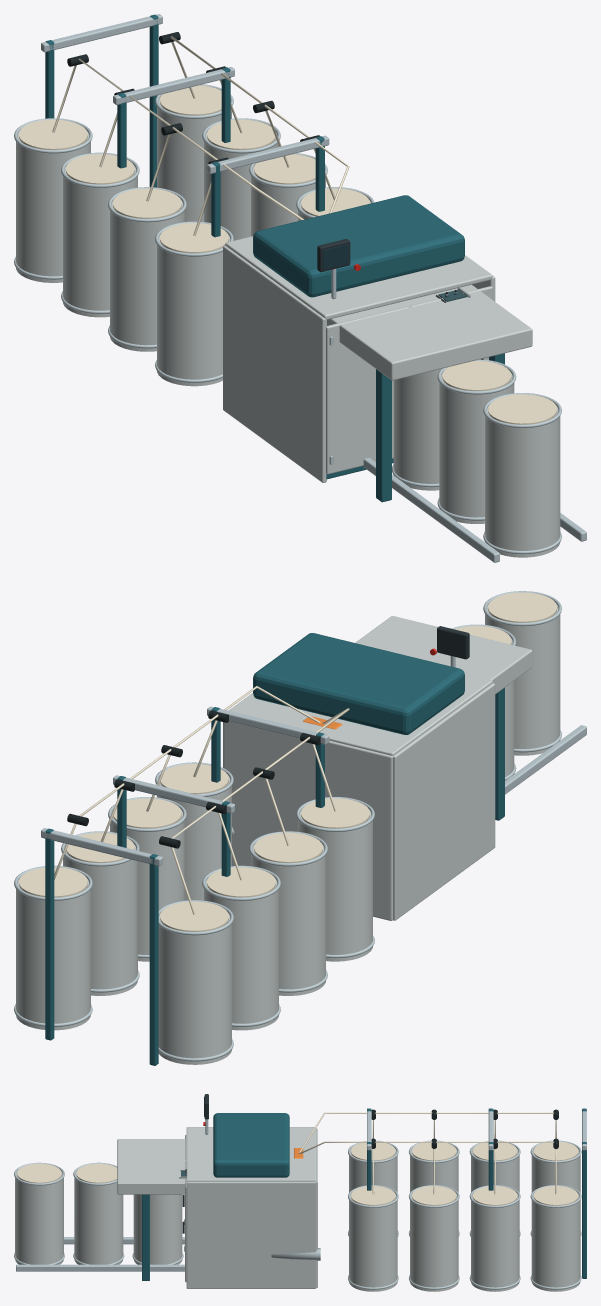
File: drawing.glb
3 views of the same model, one above another, from view 1: azimuth 30°, elevation 25°; view 2: azimuth 150°, elevation 25°; view 3: azimuth 270°, elevation 25° (orthographic). The views are drawn at different scales.
Parts seen in each view (by area): view 1: RSBD55_main_end, RSBD55_drafting_hood, coiler_bridge, can_body.002, can_body.003, RSBD55_main_door, can_body.007, can_body.009, can_body.005, can_body.001, RSBD55_main_roof, can_body (+21 smaller); view 2: RSBD55_main_end, RSBD55_main_rear, RSBD55_drafting_hood, can_body.009, can_body.010, can_body.005, can_body.007, can_body.003, can_body.008, can_body.002, coiler_bridge, RSBD55_main_roof (+24 smaller); view 3: RSBD55_main_end.001, RSBD55_drafting_hood, can_body.010, can_body.004, can_body.006, can_body.008, can_body.002, can_body.001, coiler_bridge, RSBD55_main_roof, can_body, can_body.009 (+23 smaller).
Part boxes in pixels (x1,y1,x2,y2): RSBD55_main_end: [223, 245, 326, 482]; RSBD55_drafting_hood: [253, 195, 464, 297]; coiler_bridge: [327, 284, 532, 380]; can_body.002: [485, 406, 560, 557]; can_body.003: [157, 234, 230, 386]; RSBD55_main_door: [326, 306, 408, 474]; can_body.007: [63, 166, 137, 317]; can_body.009: [16, 131, 90, 282]; can_body.005: [110, 200, 184, 351]; can_body.001: [439, 373, 514, 523]; RSBD55_main_roof: [225, 236, 492, 319]; can_body: [393, 368, 441, 490]; RSBD55_main_end: [393, 683, 495, 920]; RSBD55_main_rear: [224, 721, 392, 920]; RSBD55_drafting_hood: [253, 633, 464, 734]; can_body.009: [158, 913, 231, 1064]; can_body.010: [16, 879, 90, 1030]; can_body.005: [251, 844, 325, 995]; can_body.007: [204, 879, 278, 1030]; can_body.003: [298, 810, 372, 961]; can_body.008: [63, 845, 137, 995]; can_body.002: [485, 604, 560, 755]; coiler_bridge: [355, 616, 532, 693]; RSBD55_main_roof: [229, 674, 492, 755]; RSBD55_main_end.001: [186, 1181, 316, 1288]; RSBD55_drafting_hood: [213, 1113, 289, 1177]; can_body.010: [531, 1194, 580, 1291]; can_body.004: [349, 1194, 397, 1291]; can_body.006: [410, 1194, 458, 1291]; can_body.008: [471, 1194, 519, 1291]; can_body.002: [15, 1172, 63, 1264]; can_body.001: [74, 1172, 123, 1264]; coiler_bridge: [117, 1139, 186, 1194]; RSBD55_main_roof: [186, 1127, 316, 1181]; can_body: [133, 1194, 182, 1264]; can_body.009: [531, 1149, 580, 1192].
Size of the model in its own units: 1.93 by 1.96 by 7.05.
